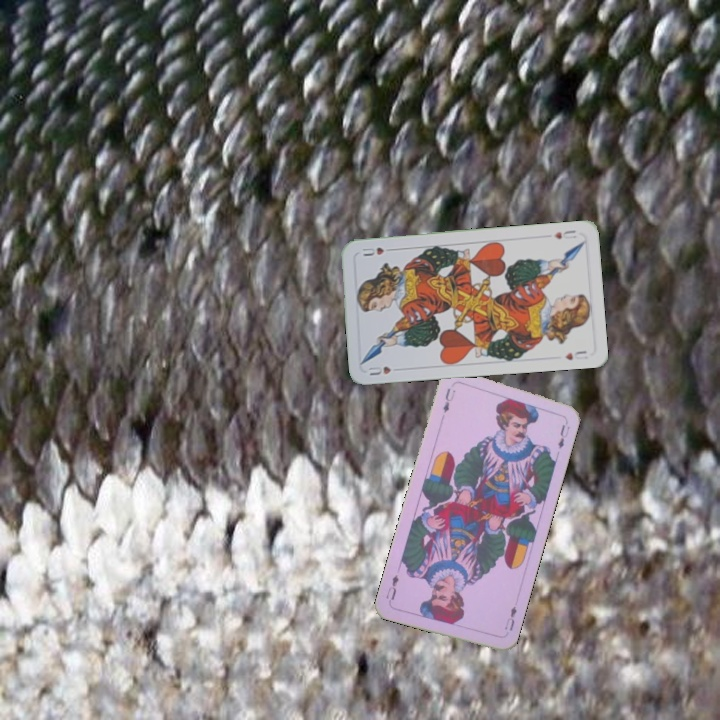EU: (439, 384, 458, 416), (500, 602, 519, 633)
HU: (364, 362, 394, 378), (550, 226, 579, 242)
